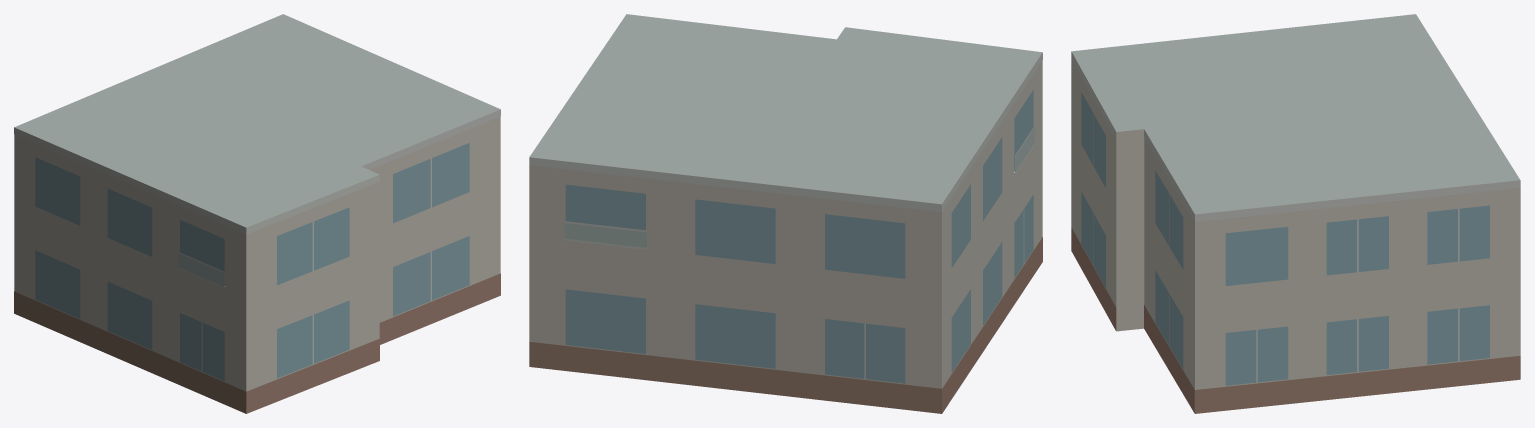
Rendered from survey-upis-32656434.glb.
3 renders of one model, left to right at view 1: azimuth 30°, elevation 25°; view 2: azimuth 150°, elevation 25°; view 3: azimuth 270°, elevation 25°, orthographic. The views are drawn at different scales.
Parts seen in each view (by area): view 1: survey-upis-32656434.tmp; view 2: survey-upis-32656434.tmp; view 3: survey-upis-32656434.tmp.
Boxes of the visible parts, bbox=[...] form: survey-upis-32656434.tmp: bbox=[14, 14, 500, 413]; survey-upis-32656434.tmp: bbox=[529, 14, 1042, 413]; survey-upis-32656434.tmp: bbox=[1071, 14, 1520, 413].
Size of the model in its own units: 14.02 by 6.5 by 13.28.
